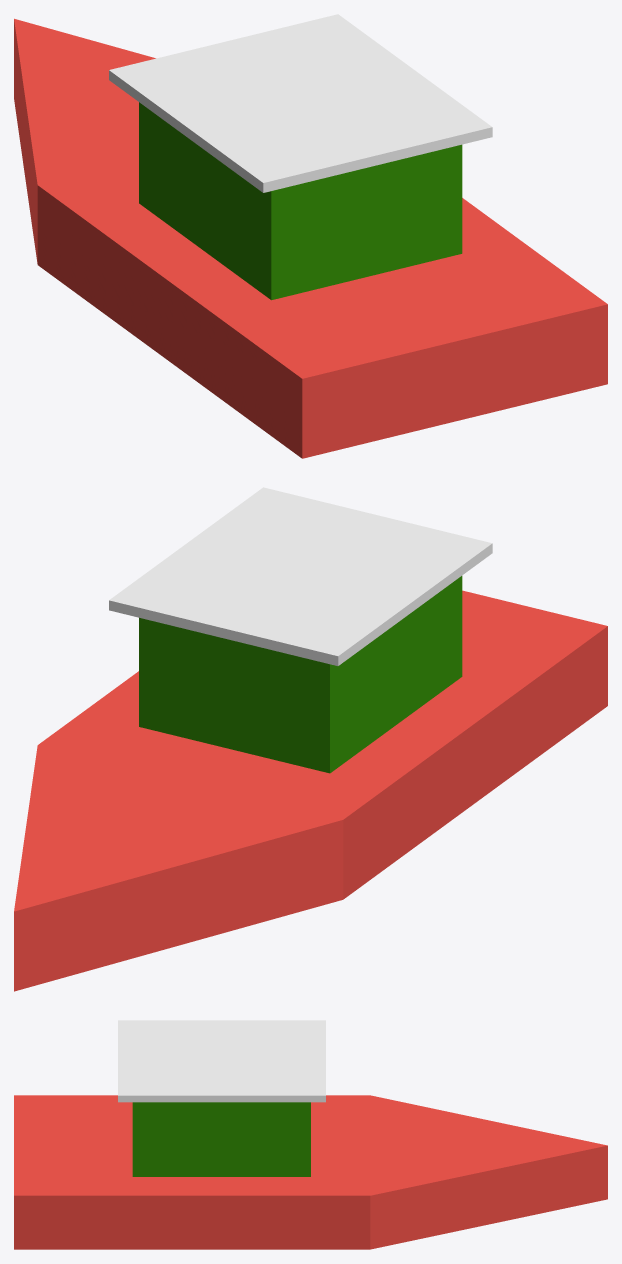
Rendered from boat_3.glb.
3 renders of one model, top to bottom at view 1: azimuth 30°, elevation 25°; view 2: azimuth 150°, elevation 25°; view 3: azimuth 270°, elevation 25°, orthographic. The views are drawn at different scales.
Bounding box in the file's own units: 1.6 × 1.05 × 4.
